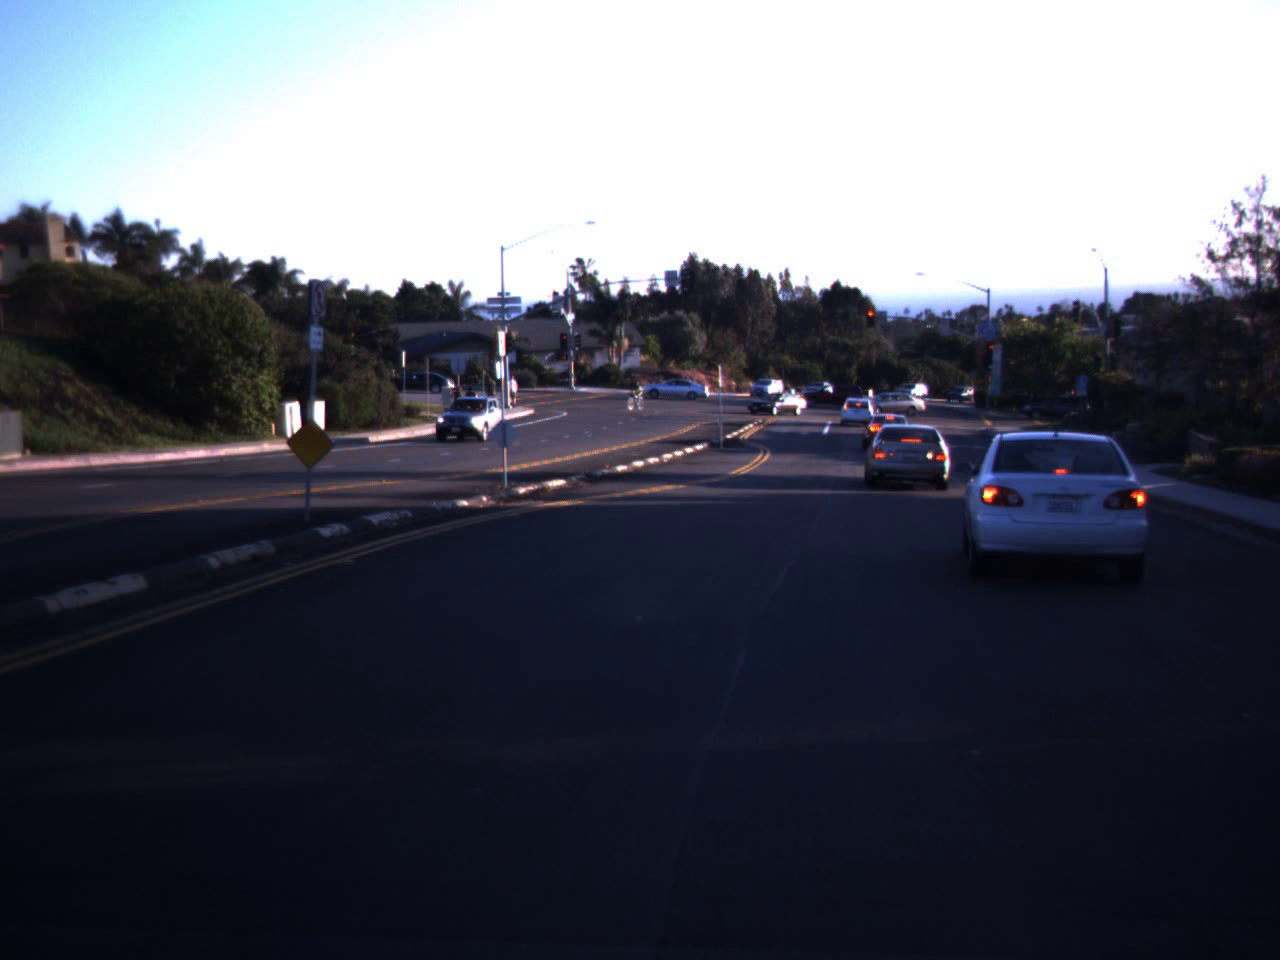stop: (864, 310, 876, 328)
